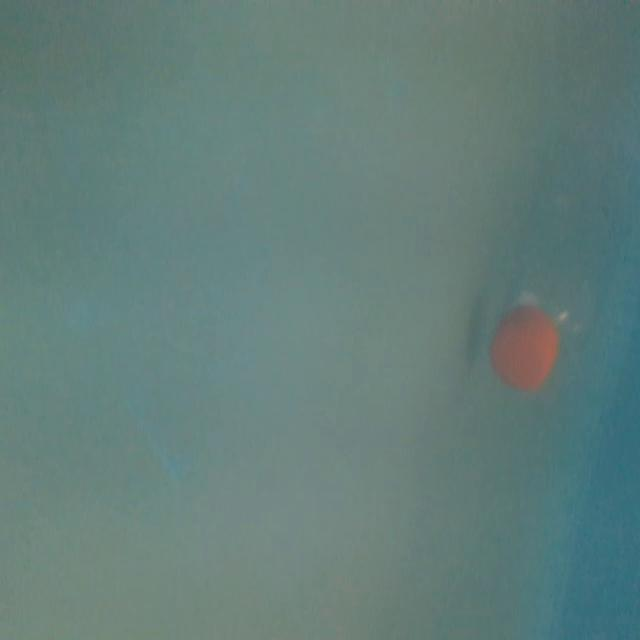plastic bottle: (461, 98, 640, 406)
